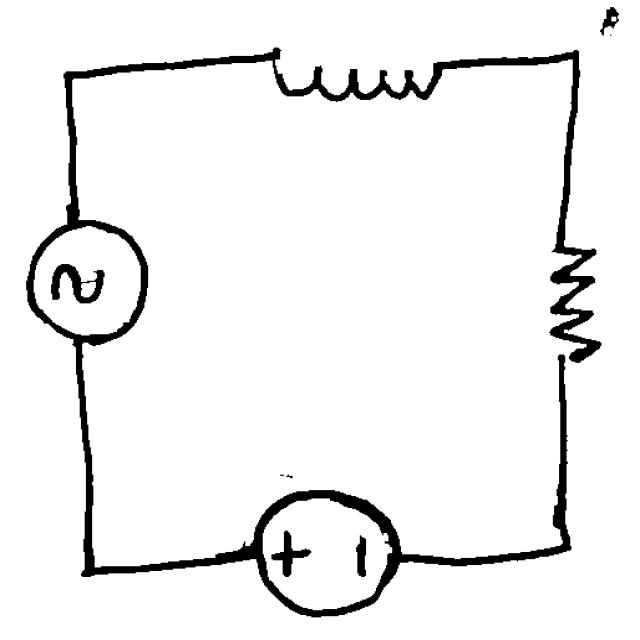ac: (16, 208, 158, 351)
dc: (245, 478, 406, 625)
inductor: (249, 36, 457, 111)
resistor: (530, 227, 611, 379)
